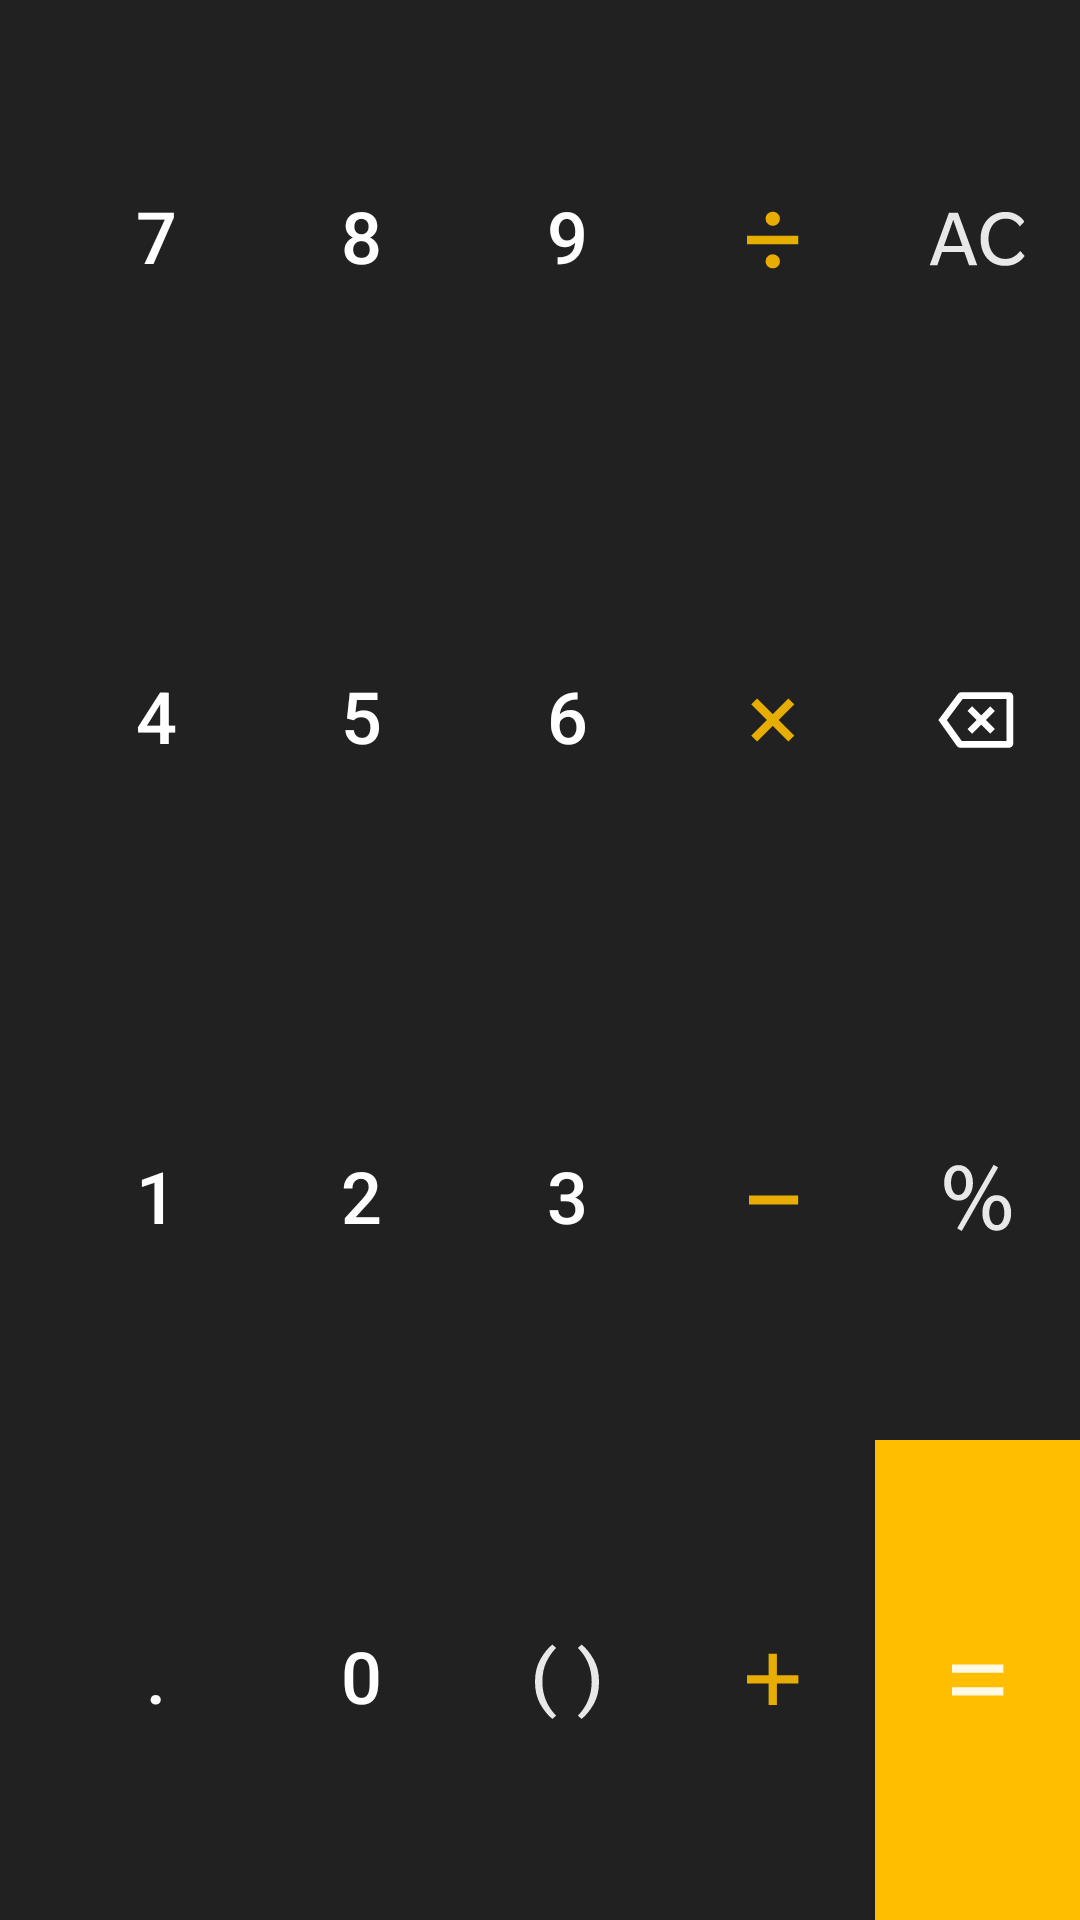

Locate icon controls on the screen. Image size 1080 x 1920, boxes as (x1, y1, x2, y2).
add: (747, 1653, 799, 1705)
del: (938, 692, 1014, 748)
div: (747, 211, 799, 269)
mul: (751, 698, 794, 742)
parentheses: (535, 1644, 599, 1719)
percent: (944, 1165, 1011, 1231)
sub: (749, 1195, 799, 1205)
